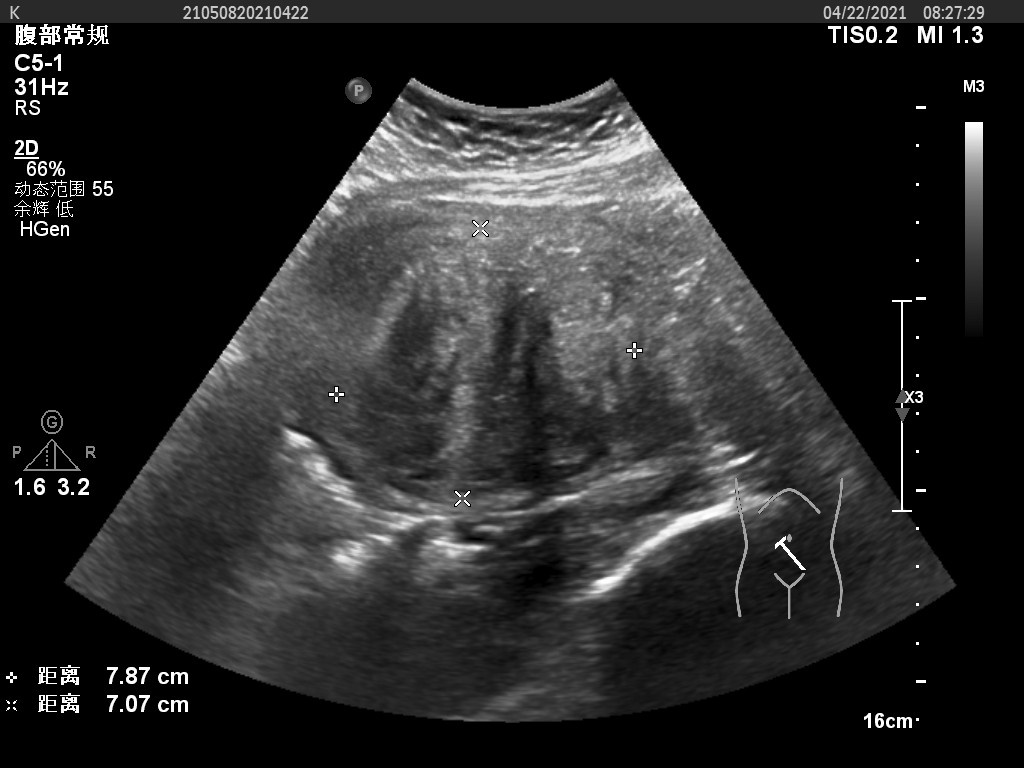肌瘤: (342, 226, 635, 500)
